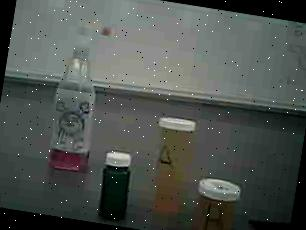Bottle A: (140, 111, 207, 220)
Bottle B: (189, 176, 245, 230)
Bottle C: (93, 148, 140, 222)
hazard: (43, 15, 118, 179)
